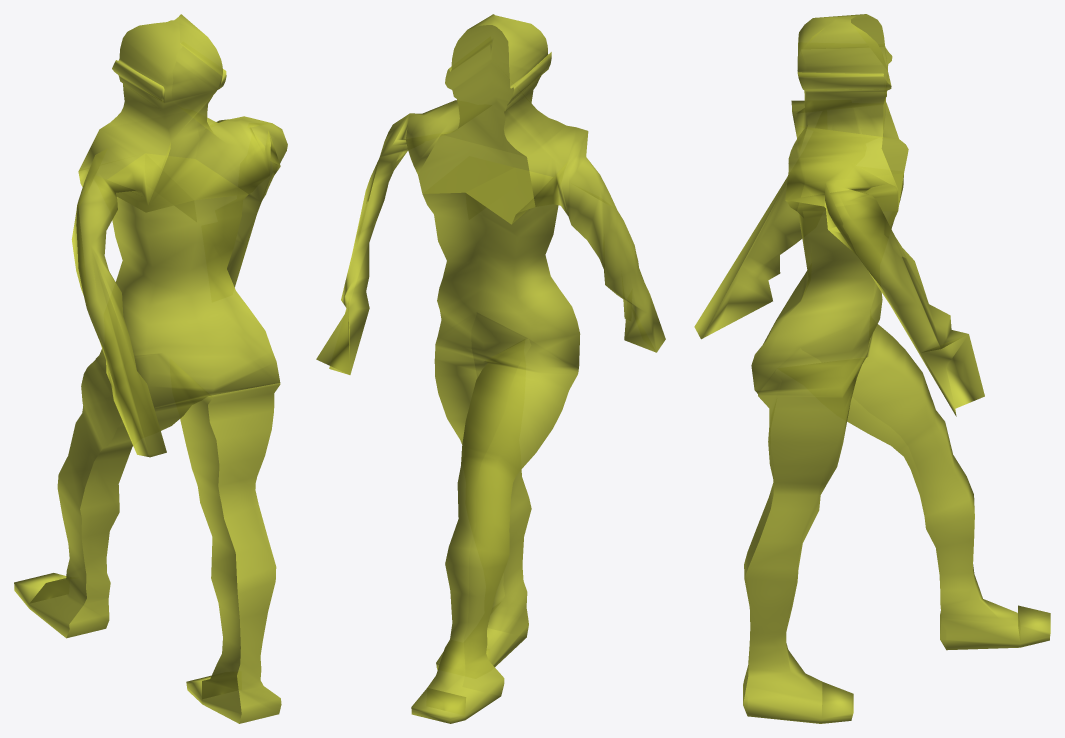
The model's file is woman_000013.obj.
The picture shows the model from 3 angles, left to right: view 1: azimuth 30°, elevation 25°; view 2: azimuth 150°, elevation 25°; view 3: azimuth 270°, elevation 25°; orthographic projection. The views are drawn at different scales.
Visible parts, largest first — view 1: Cube_Cube.001; view 2: Cube_Cube.001; view 3: Cube_Cube.001.
Boxes of the visible parts, <box> form: Cube_Cube.001: <box>14,14,287,723</box>; Cube_Cube.001: <box>316,14,665,723</box>; Cube_Cube.001: <box>694,14,1050,723</box>.
Bounding box in the file's own units: 3.53 × 9.98 × 4.76.
